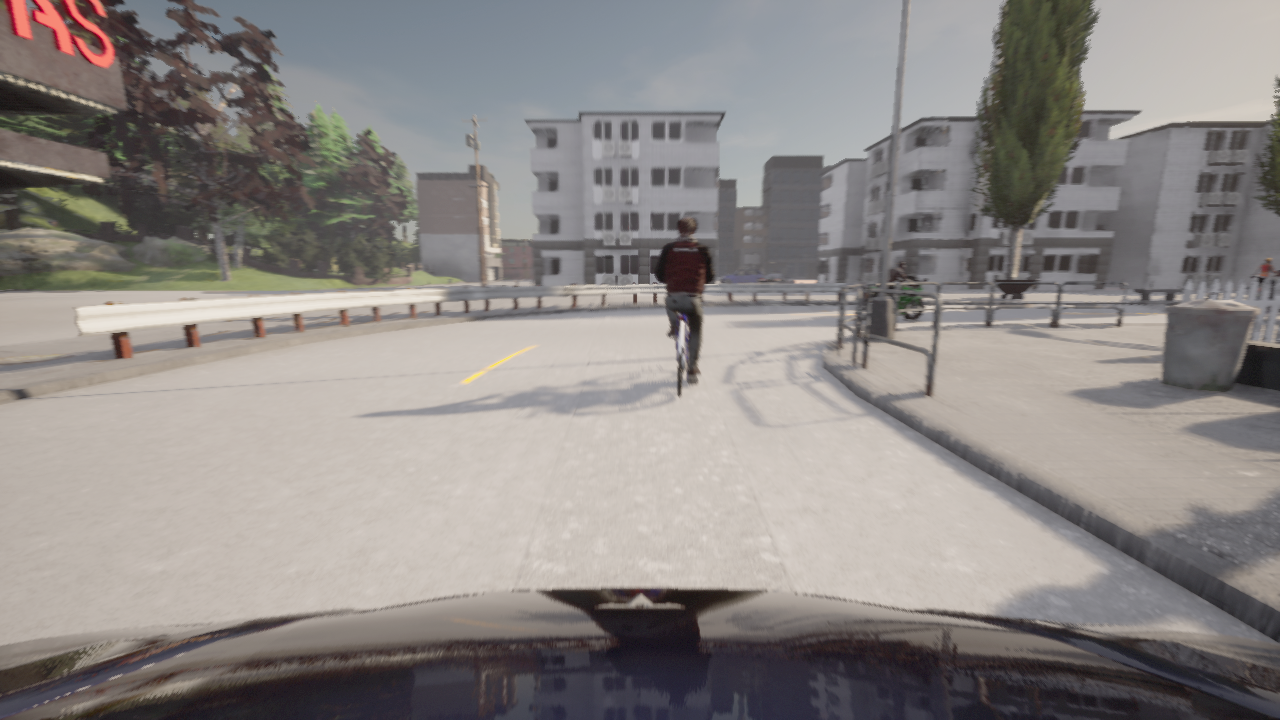cyclist: (0, 588, 1279, 719), (853, 275, 927, 321), (670, 313, 697, 396), (1245, 275, 1279, 317), (720, 269, 763, 283), (758, 272, 794, 283), (759, 278, 781, 280)
pedestrian: (1255, 258, 1275, 292)
